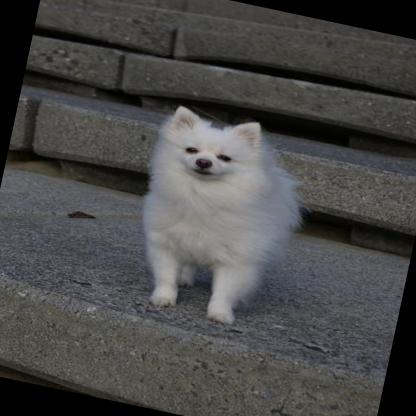Pomeranian: (115, 95, 324, 337)
